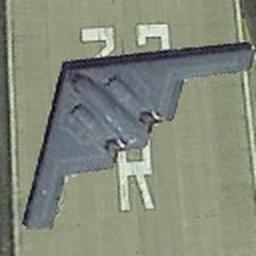Airplane: (20, 40, 255, 230)
